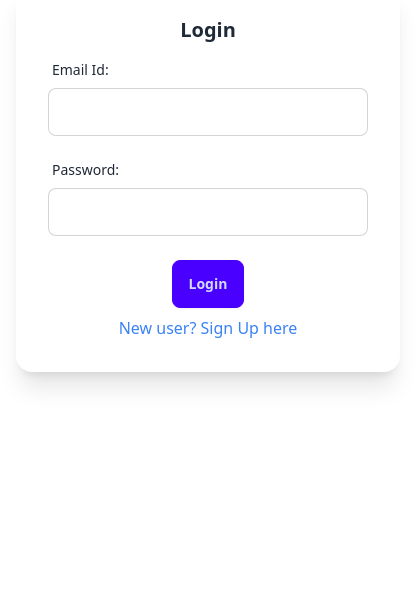
it: Login › should toggle back to Login from Sign Up
Click the text "New user? Sign Up here".
click(208, 328)  # box [119,316,297,340]
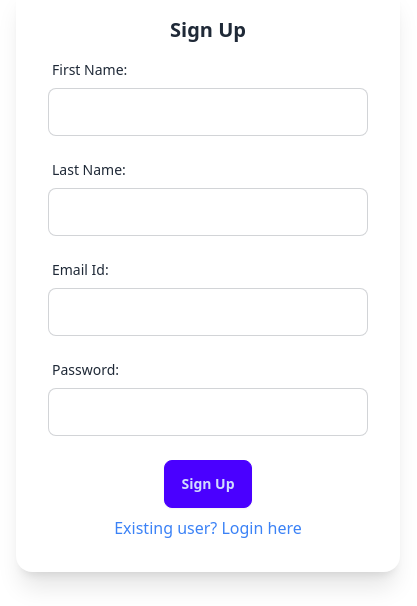
Click the text "Existing user? Login here".
click(208, 528)  # box [114,516,302,540]
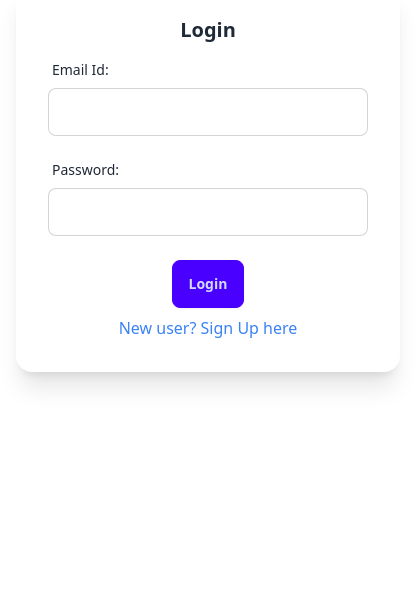
Result: the heading "Login" is shown at [180,16,236,43]
